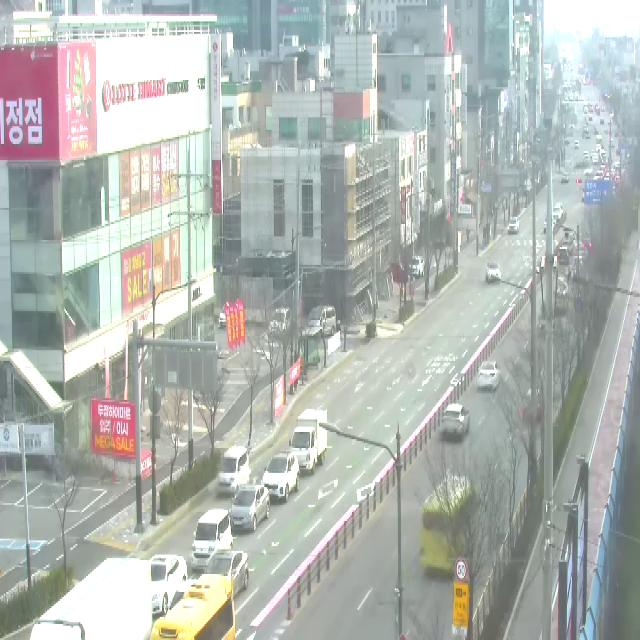Bus: (420, 477, 477, 579), (152, 576, 235, 640)
Car: (191, 508, 233, 570), (150, 555, 187, 614), (204, 551, 249, 598), (230, 485, 270, 533), (261, 452, 299, 502), (218, 446, 246, 496), (441, 403, 469, 442), (308, 306, 336, 340), (268, 307, 292, 338), (478, 361, 500, 391), (218, 302, 233, 330), (409, 256, 425, 278), (486, 263, 501, 283), (558, 247, 570, 265), (544, 215, 556, 232), (508, 217, 519, 234), (553, 206, 561, 221), (556, 202, 563, 215)
Truck: (30, 559, 152, 640), (289, 408, 327, 474)
